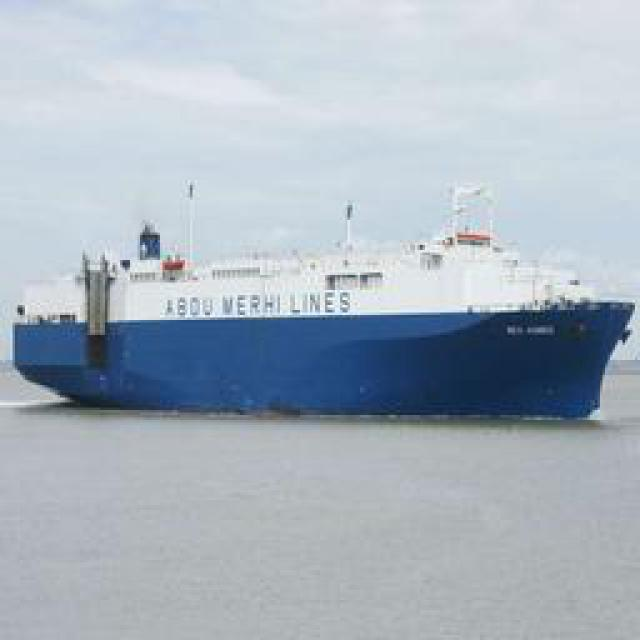Ship: (17, 171, 635, 429)
